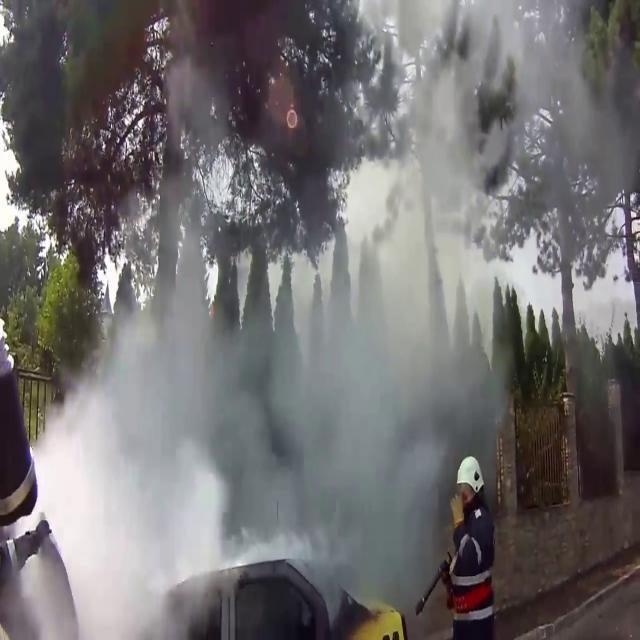Smoke: (11, 3, 531, 630), (567, 316, 640, 551)
